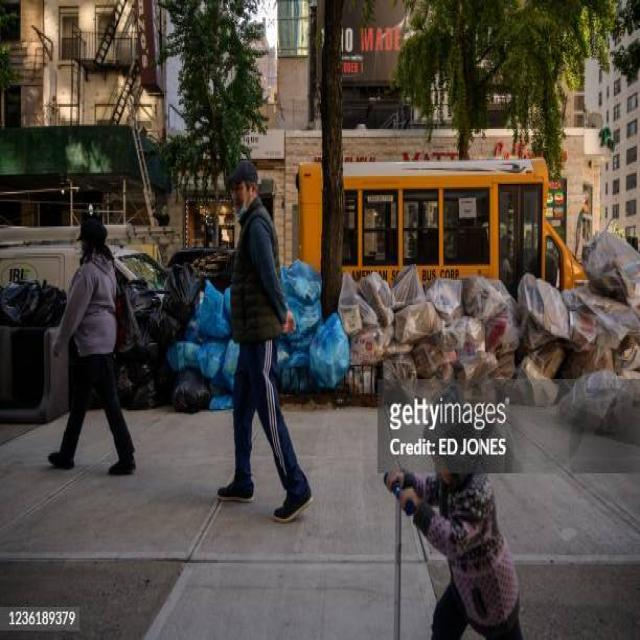trash: (51, 236, 622, 421)
